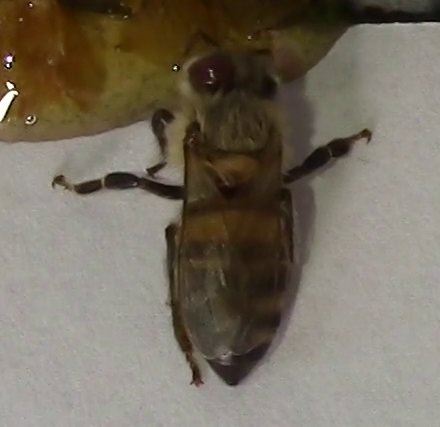Varroa destructor: (184, 51, 240, 93)
